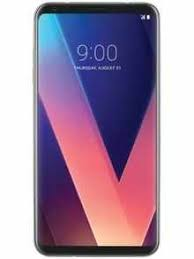lg: (30, 1, 163, 256)
